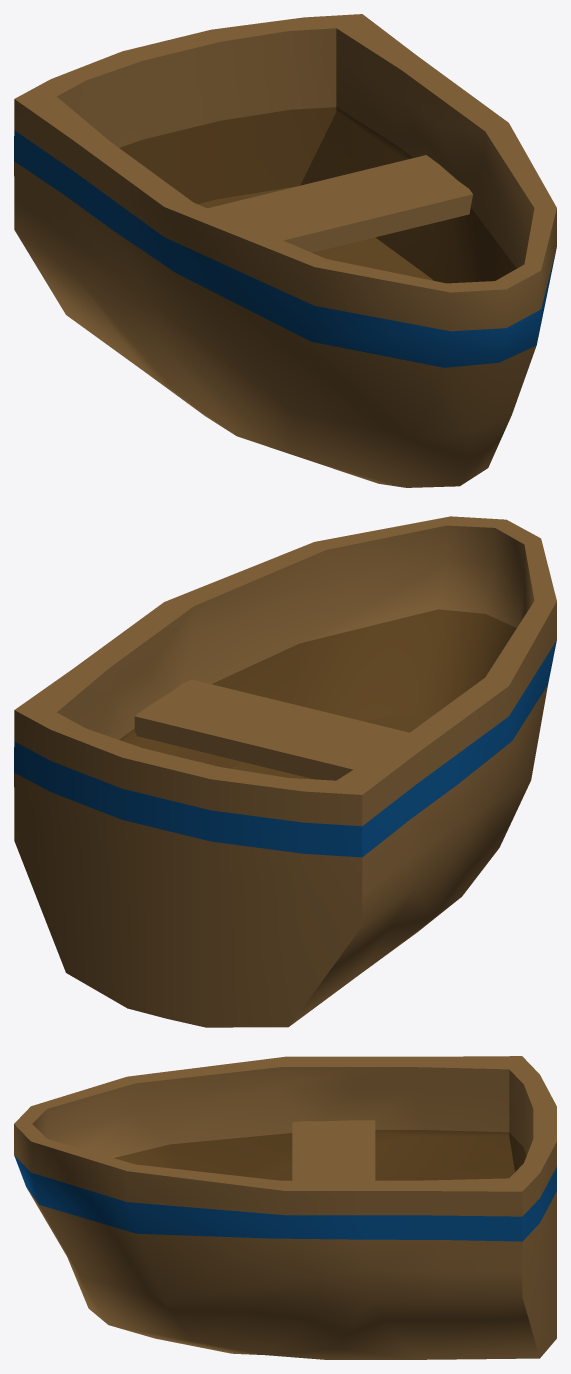
File: boat.fbx
3 views of the same model, one above another, from view 1: azimuth 30°, elevation 25°; view 2: azimuth 150°, elevation 25°; view 3: azimuth 270°, elevation 25° (orthographic). The views are drawn at different scales.
Visible parts, largest first — view 1: boat; view 2: boat; view 3: boat.
Boxes of the visible parts, box(x1,y1,x2,y2) form: boat: box(14, 14, 556, 487); boat: box(14, 516, 556, 1027); boat: box(14, 1056, 556, 1359).
Size of the model in its own units: 103 by 76.75 by 174.
